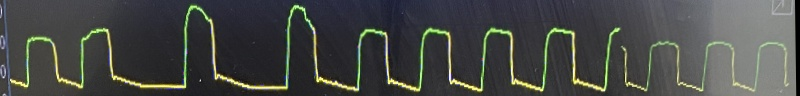normal_pressure: (13, 1, 788, 96)
